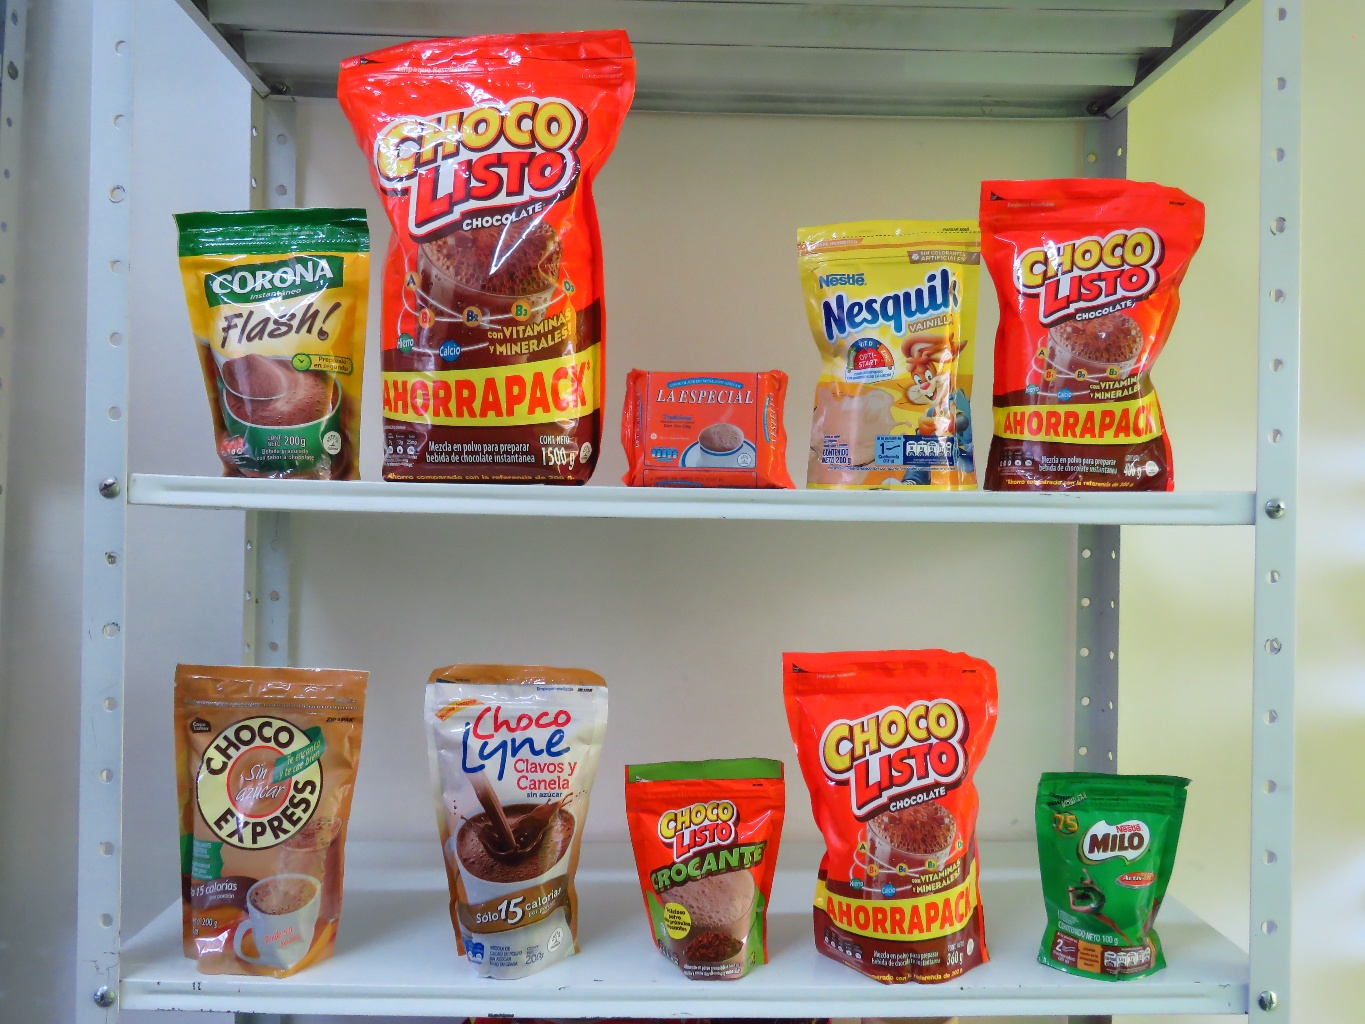COL0170102DYP10000: (606, 733, 808, 1002)
COL0170103DYP1,500: (322, 11, 648, 496)
COL0170103DYP36000: (772, 629, 1019, 1002)
COL0170103DYP40000: (954, 159, 1219, 511)
COL0170203DYP10000: (1024, 757, 1200, 994)
COL0170306DYP20000: (774, 190, 996, 498)
